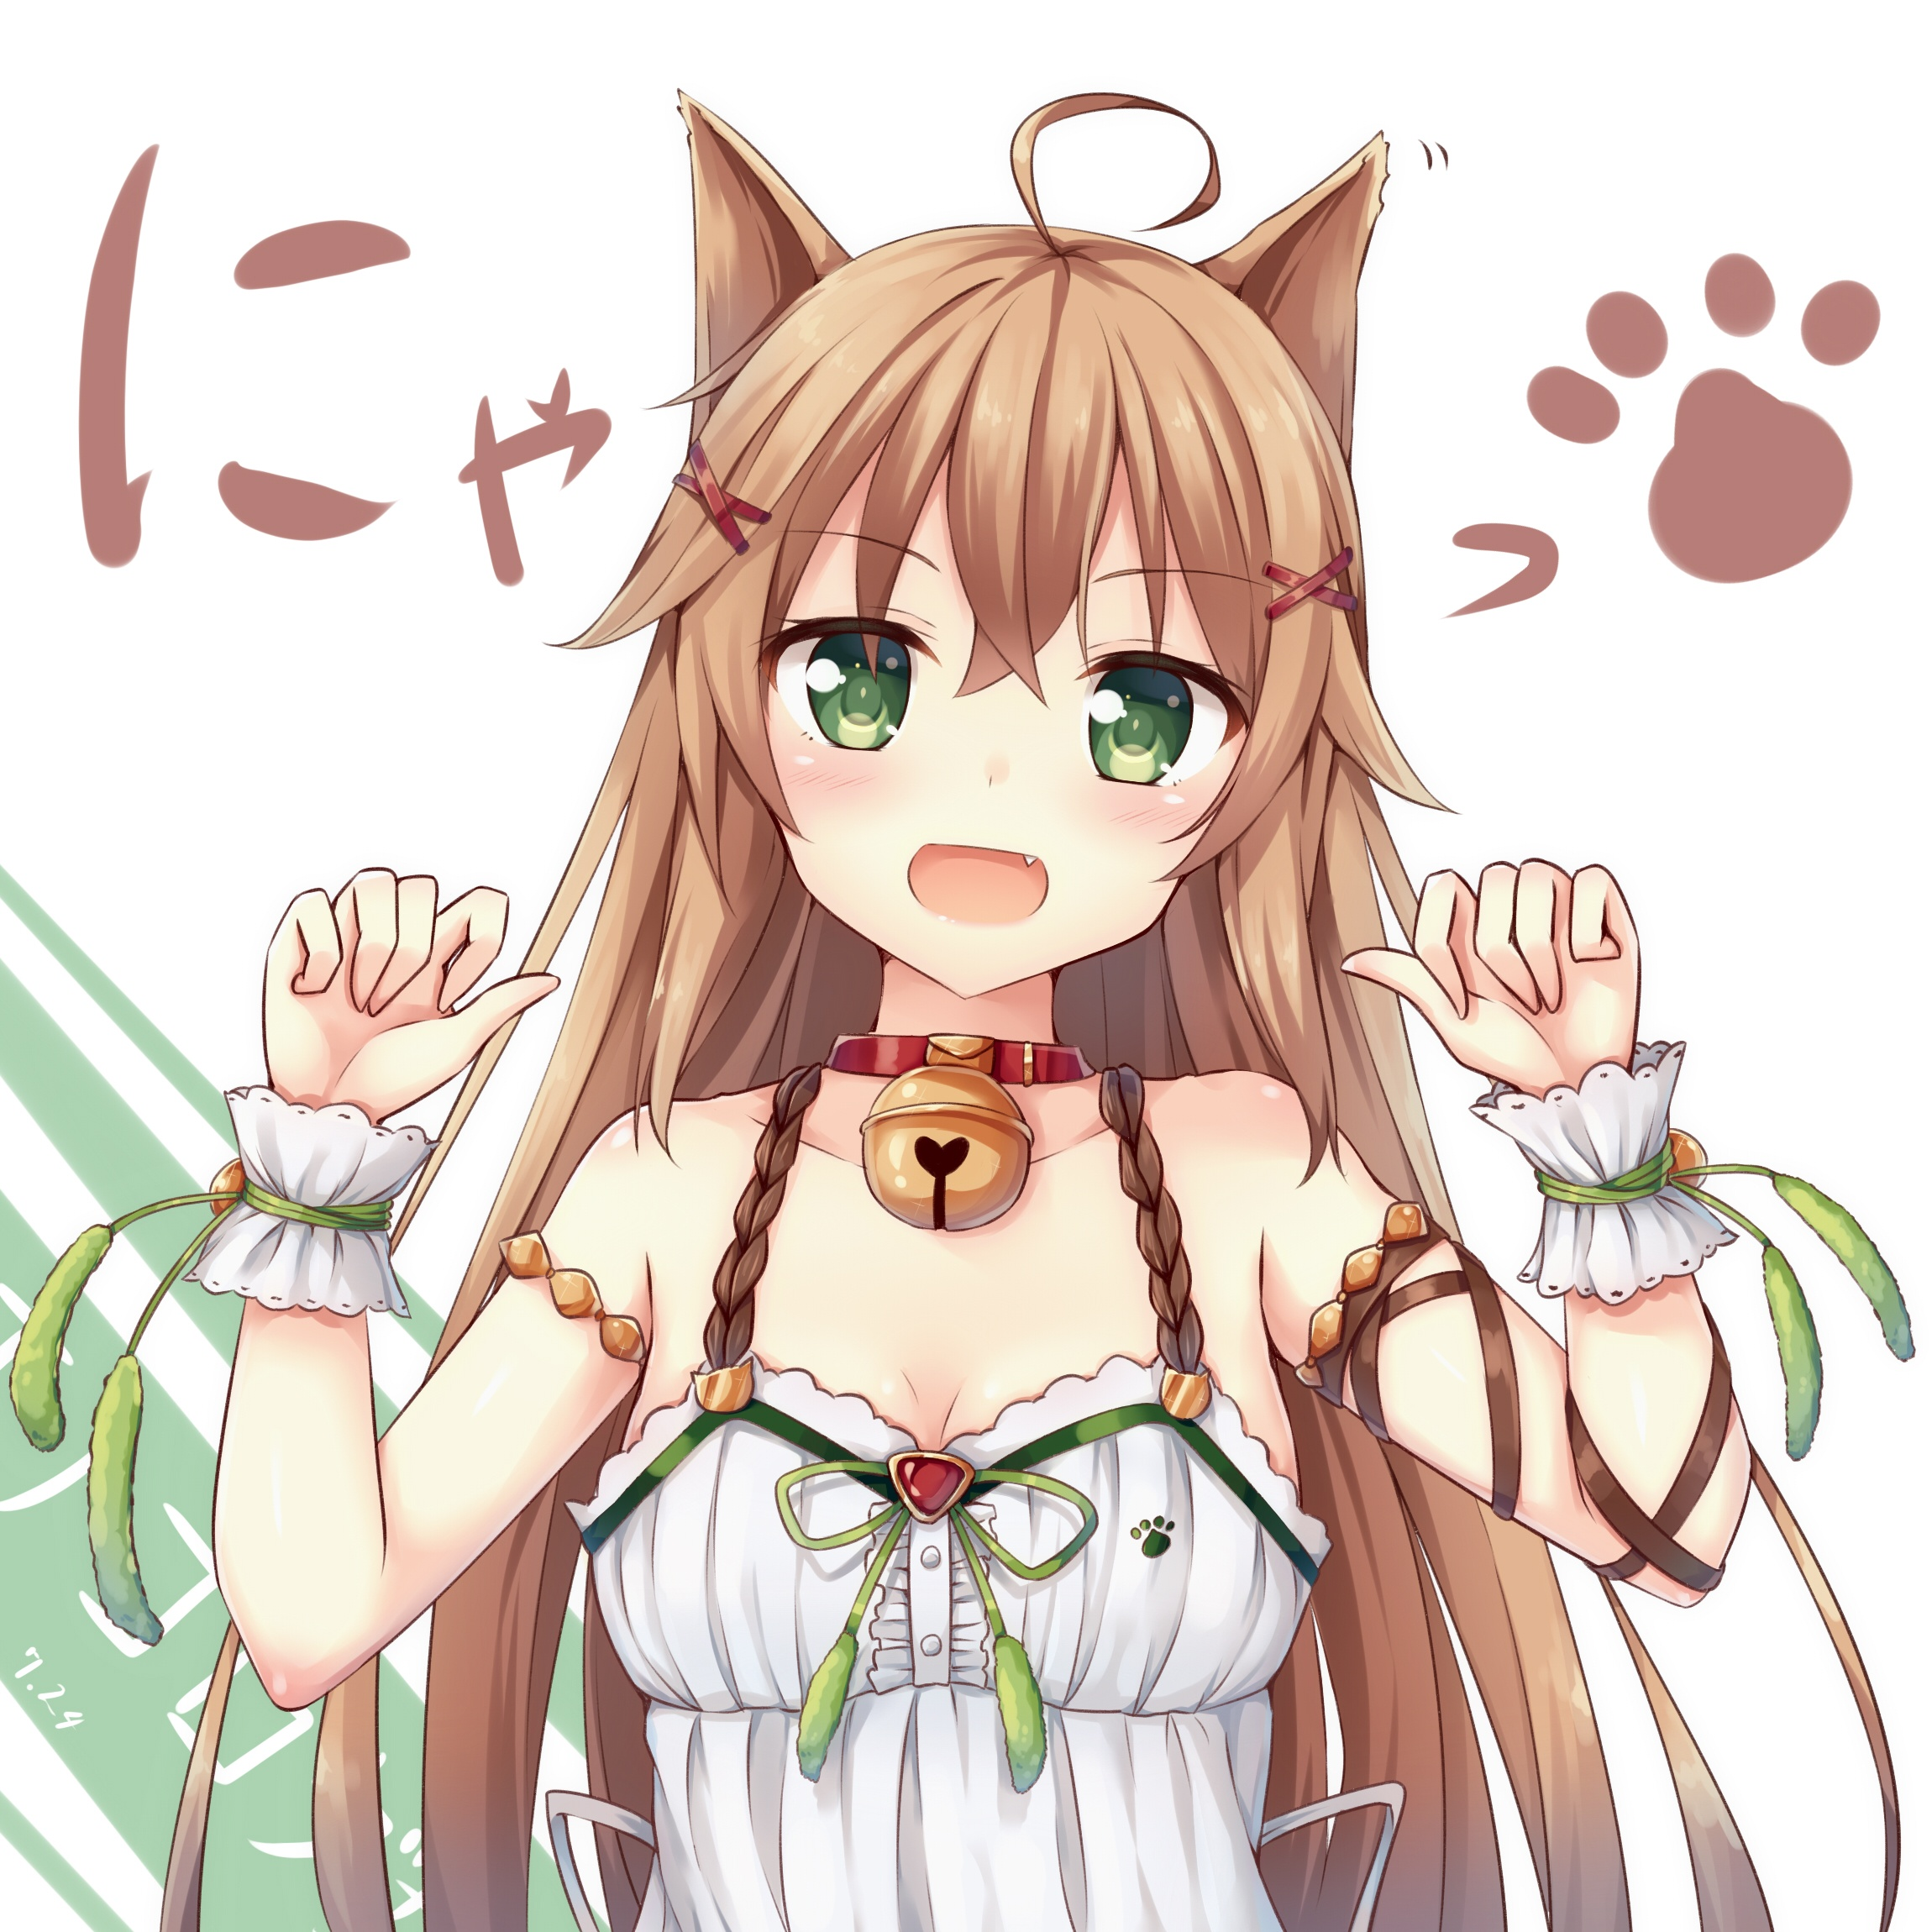纸片人正脸: (641, 171, 1381, 1025)
